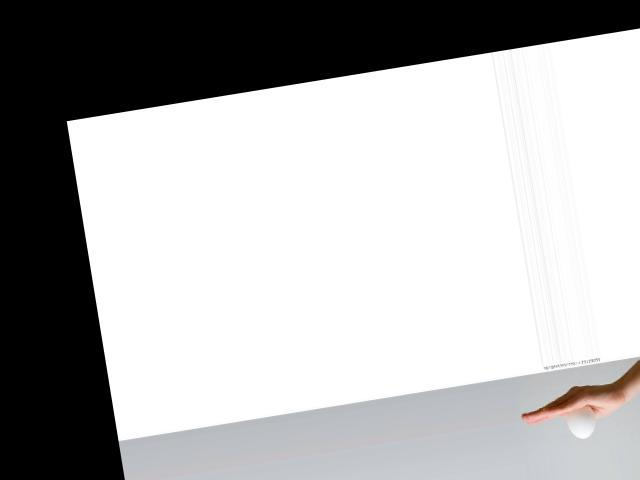egg: (565, 403, 596, 440)
